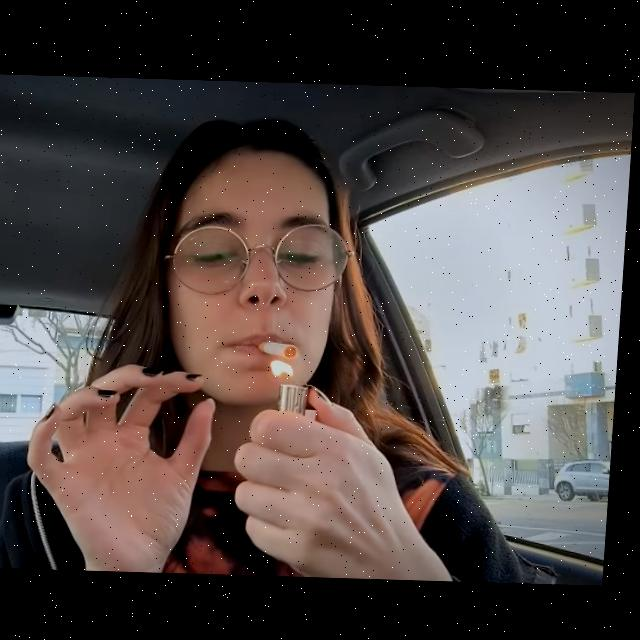cigarette: (263, 339, 304, 357)
